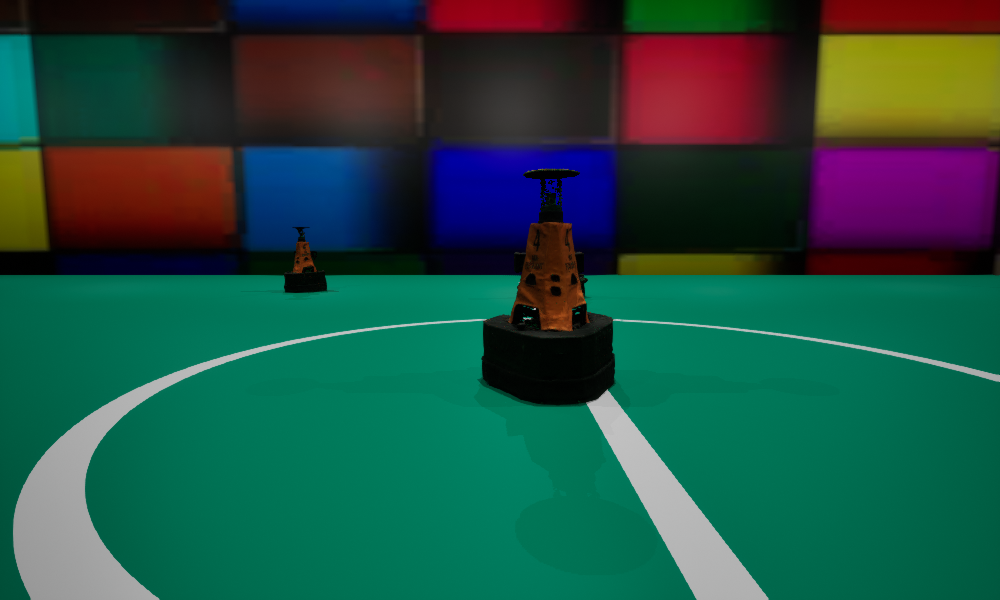0 orange robot TechUnited: (481, 169, 614, 404), (284, 227, 326, 292), (570, 223, 587, 295)
